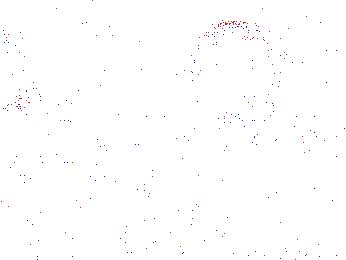moon jellyfish: (186, 21, 283, 115), (29, 1, 115, 79), (1, 55, 43, 110)
